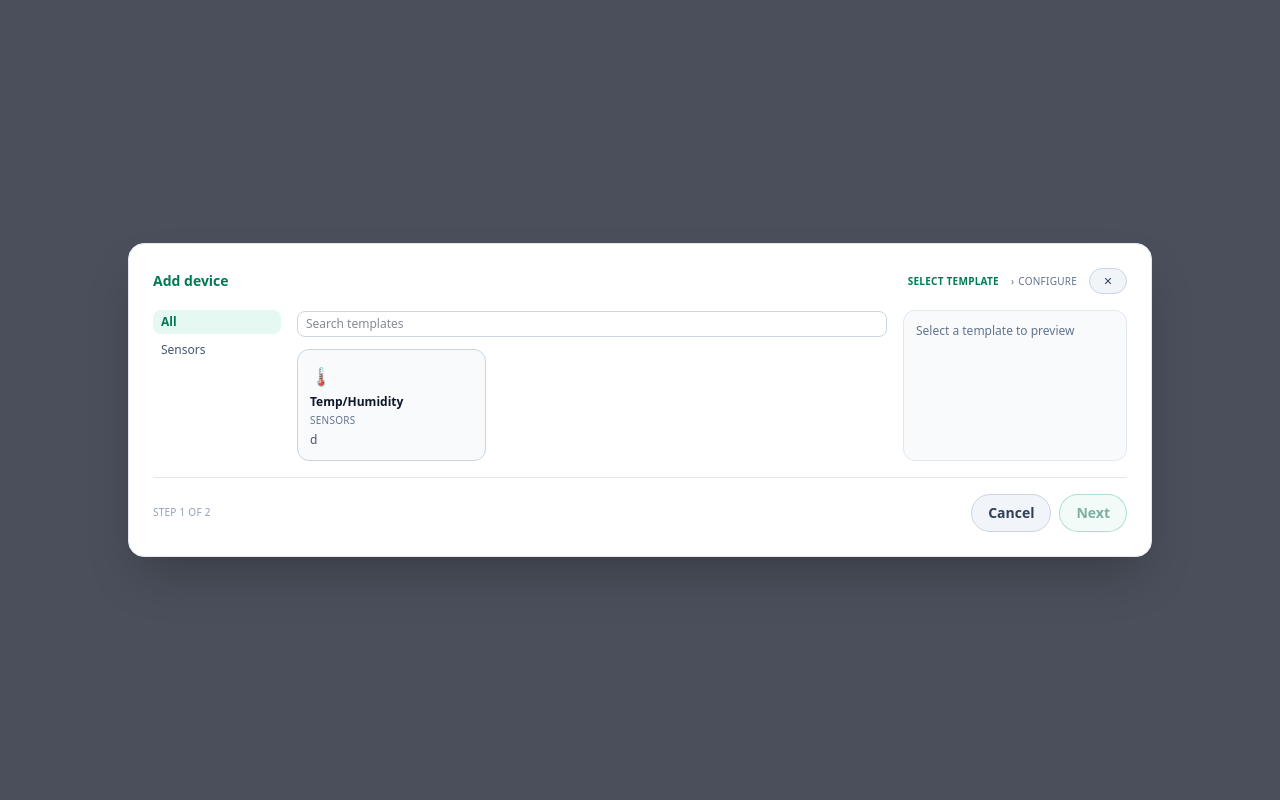
Test: AddDeviceModal wizard › prefills the device name from the template
This screenshot has width=1280, height=800.
Click the text "Temp/Humidity" at (357, 402), box [310,393,403,410]
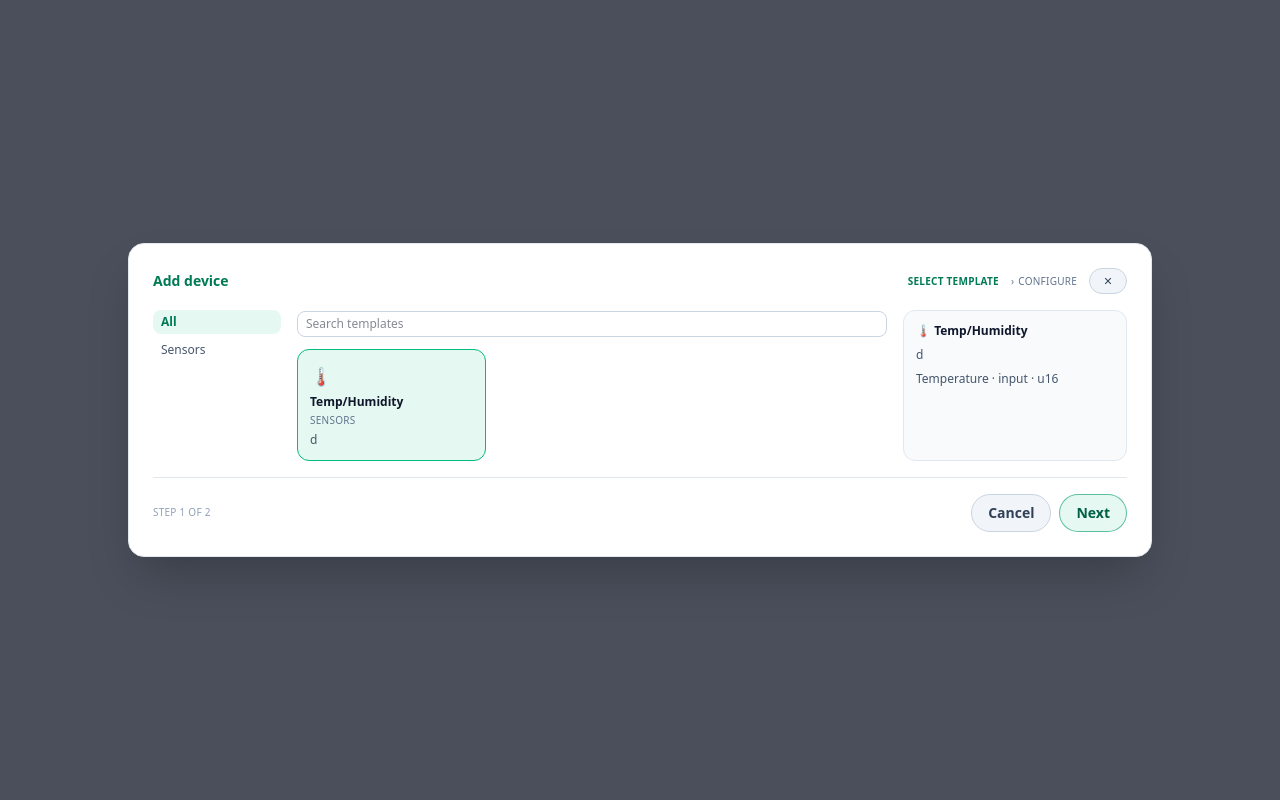
Click the button "Next" at (1093, 513), box [1060,494,1127,532]
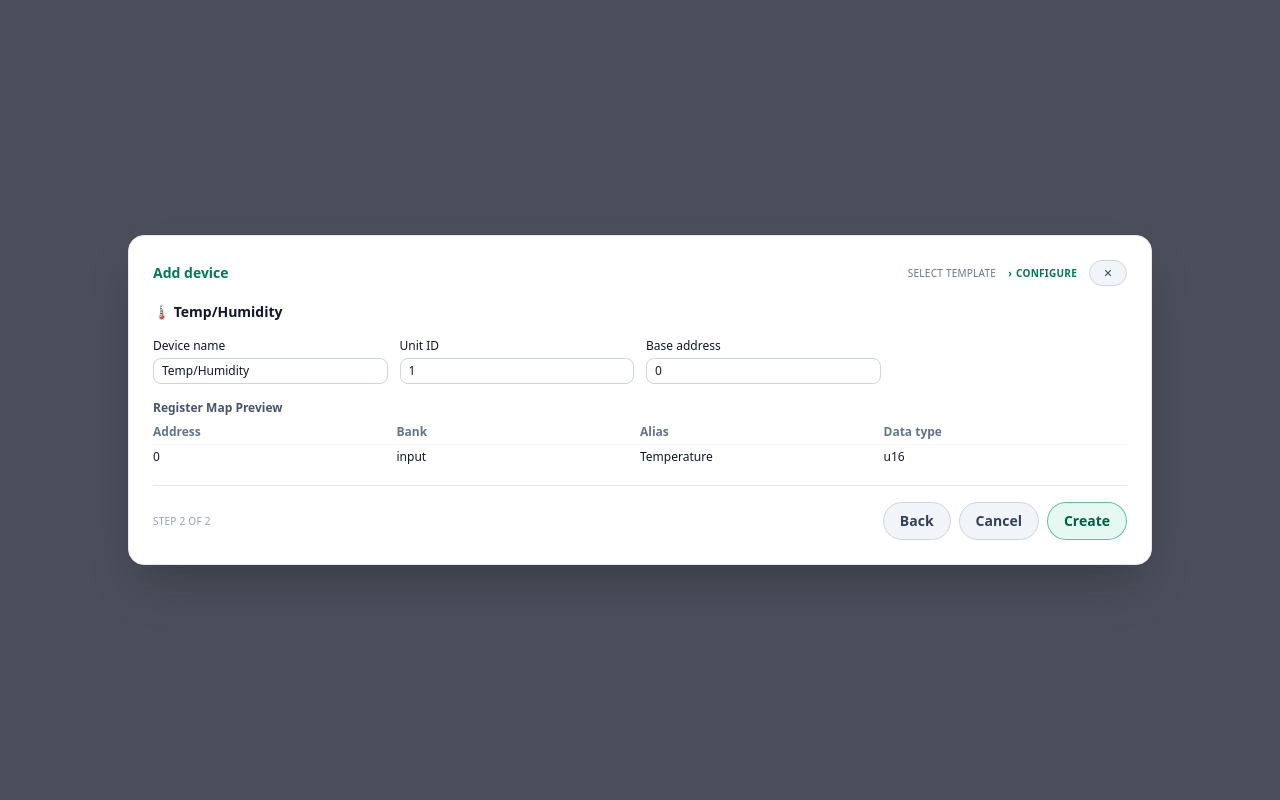
Result: the field labelled "Device name" holds "Temp/Humidity" at [153,358,388,384]
